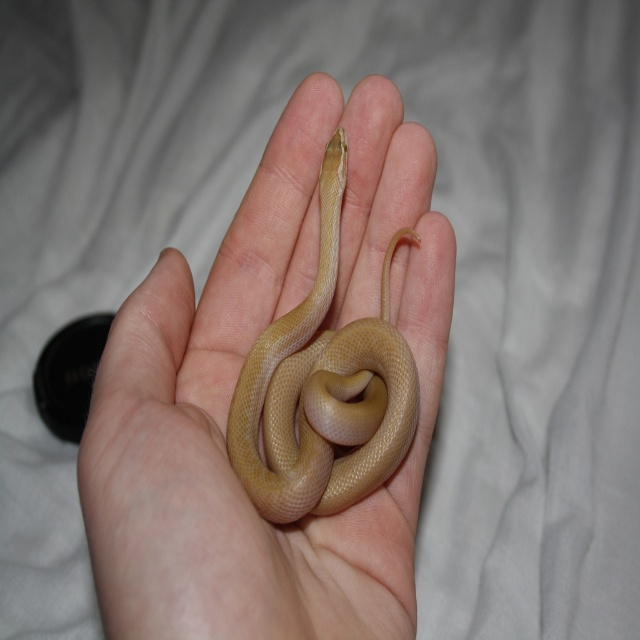Snake: (226, 126, 422, 523)
